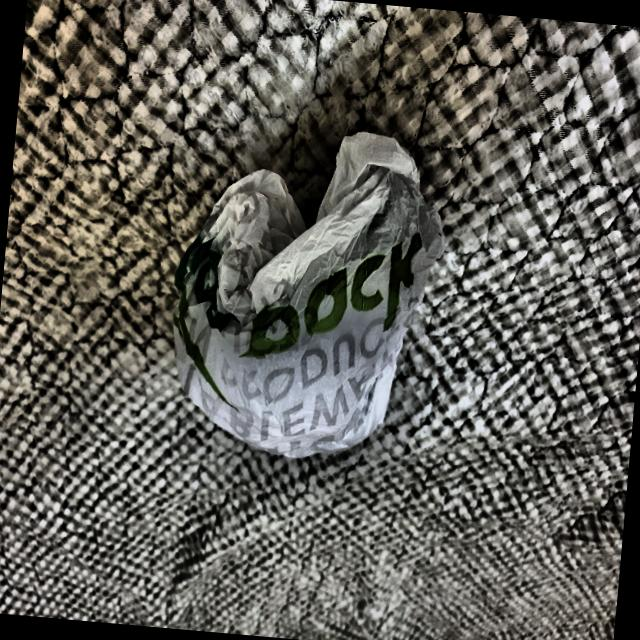plastic bag: (148, 104, 466, 484)
